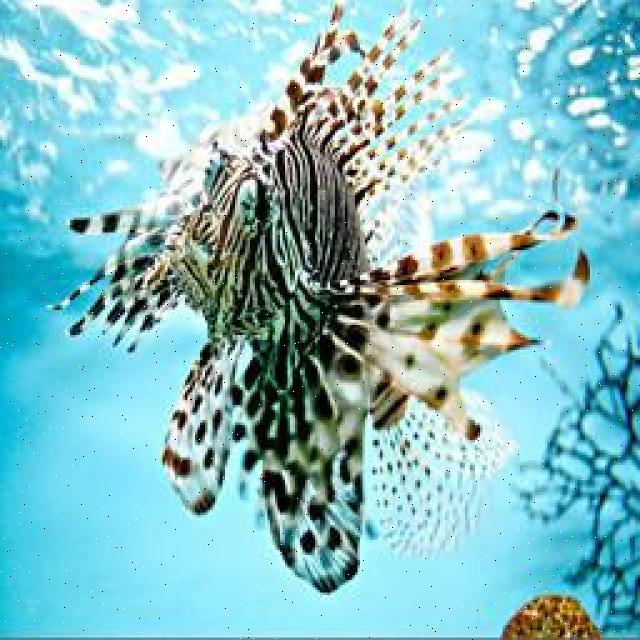fish: (45, 3, 591, 595)
